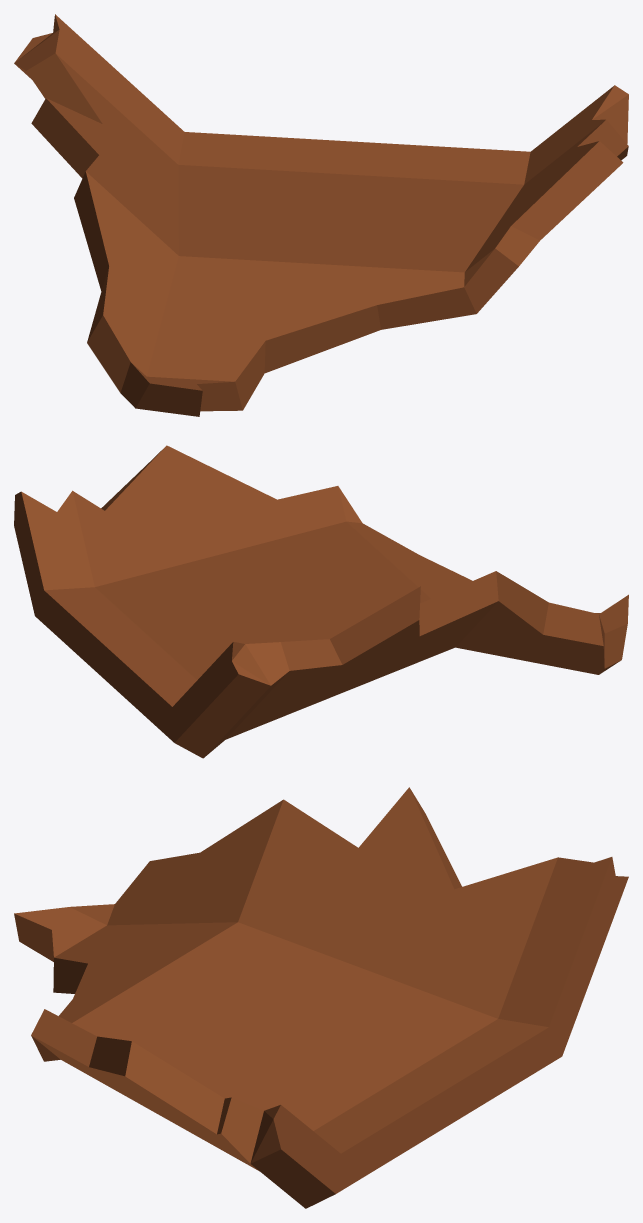
File: Collin_BrokenVase_003_Piece_001.fbx
3 views of the same model, one above another, from view 1: azimuth 30°, elevation 25°; view 2: azimuth 150°, elevation 25°; view 3: azimuth 270°, elevation 25° (orthographic). The views are drawn at different scales.
Parts seen in each view (by area): view 1: Broken_Vase_003_BrokenPiece_001; view 2: Broken_Vase_003_BrokenPiece_001; view 3: Broken_Vase_003_BrokenPiece_001.
Part boxes in pixels (bbox=[...]): Broken_Vase_003_BrokenPiece_001: bbox=[14, 14, 628, 416]; Broken_Vase_003_BrokenPiece_001: bbox=[14, 445, 628, 758]; Broken_Vase_003_BrokenPiece_001: bbox=[14, 787, 628, 1208].
Bounding box in the file's own units: 32.88 × 10.13 × 28.74.
Materials: 1 (1 with a texture image).
